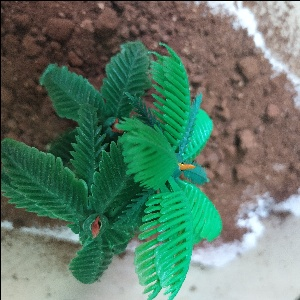plant: (2, 43, 223, 295)
